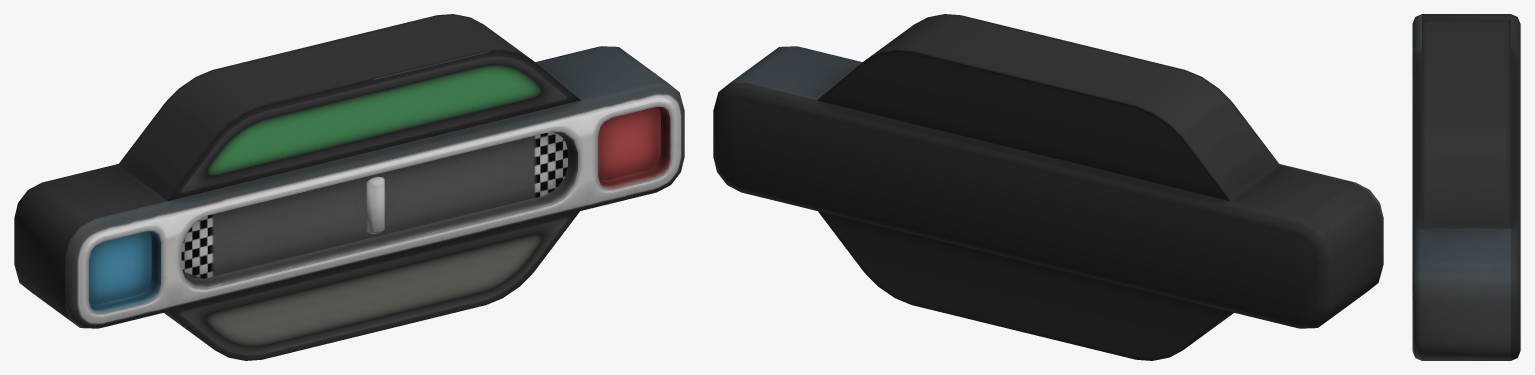
The model's file is Status Bar.fbx.
The picture shows the model from 3 angles, left to right: view 1: azimuth 30°, elevation 25°; view 2: azimuth 150°, elevation 25°; view 3: azimuth 270°, elevation 25°; orthographic projection. The views are drawn at different scales.
Parts seen in each view (by area): view 1: Cube; view 2: Cube; view 3: Cube.
Boxes of the visible parts, x1,y1,x2,y2 form: Cube: [14, 14, 684, 360]; Cube: [713, 14, 1383, 360]; Cube: [1412, 14, 1520, 360].
Size of the model in its own units: 118 by 46.19 by 20.
1 material, 1 textured.
